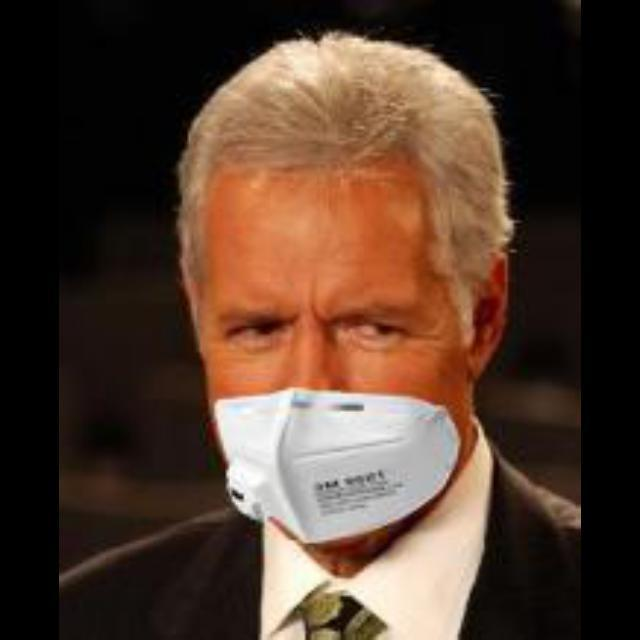suspicion: (207, 128, 509, 534)
